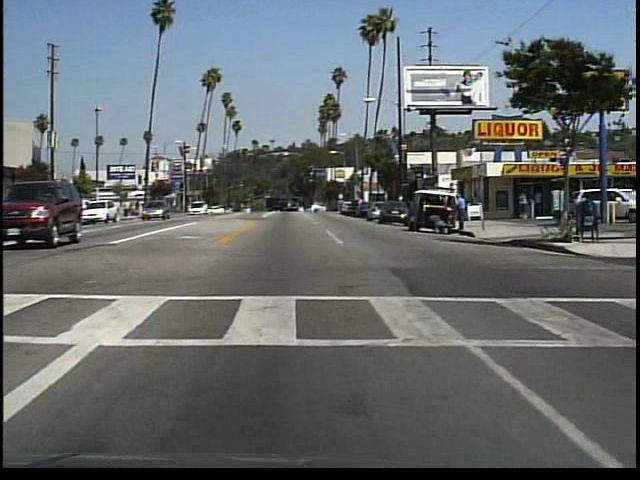person: (452, 190, 472, 234), (9, 193, 36, 225), (515, 188, 528, 223), (428, 213, 447, 235), (533, 187, 544, 218)
